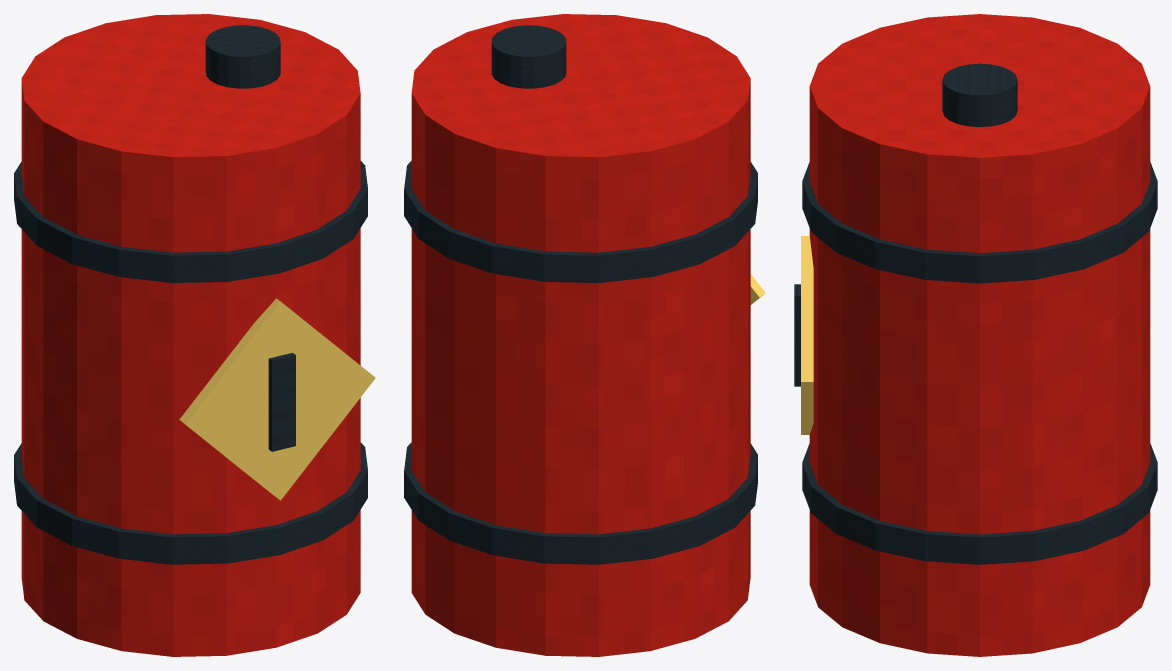
The model's file is bp_fuelbarrel.glb.
The picture shows the model from 3 angles, left to right: view 1: azimuth 30°, elevation 25°; view 2: azimuth 150°, elevation 25°; view 3: azimuth 270°, elevation 25°; orthographic projection.
Parts seen in each view (by area): view 1: barrel_body, warning_plate, barrel_ring.001, barrel_ring, barrel_cap, warning_mark; view 2: barrel_body, barrel_ring.001, barrel_ring, barrel_cap; view 3: barrel_body, barrel_ring, barrel_ring.001, barrel_cap, warning_plate, warning_mark.
Boxes of the visible parts, left/top/right/bottom form: barrel_body: left=21, top=14, right=360, bottom=656; warning_plate: left=179, top=298, right=375, bottom=500; barrel_ring.001: left=14, top=161, right=367, bottom=282; barrel_ring: left=14, top=442, right=367, bottom=564; barrel_cap: left=205, top=25, right=280, bottom=88; warning_mark: left=268, top=353, right=295, bottom=451; barrel_body: left=411, top=14, right=750, bottom=656; barrel_ring.001: left=404, top=161, right=757, bottom=282; barrel_ring: left=404, top=442, right=757, bottom=564; barrel_cap: left=491, top=25, right=566, bottom=88; barrel_body: left=809, top=14, right=1150, bottom=656; barrel_ring: left=802, top=443, right=1157, bottom=564; barrel_ring.001: left=802, top=162, right=1157, bottom=283; barrel_cap: left=942, top=63, right=1017, bottom=127; warning_plate: left=801, top=236, right=813, bottom=434; warning_mark: left=794, top=284, right=800, bottom=386.
Bounding box in the file's own units: 0.71 × 1.17 × 0.726.
Materials: 3 (2 with a texture image).
